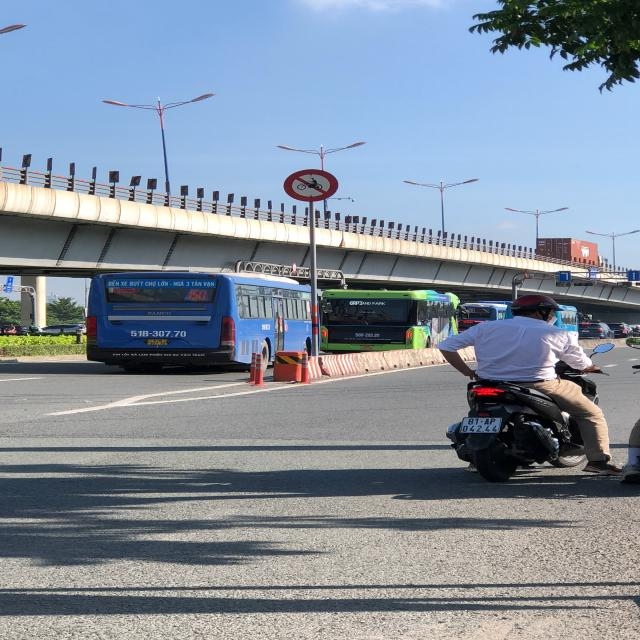Bien bao cam xe may: (282, 168, 343, 202)
